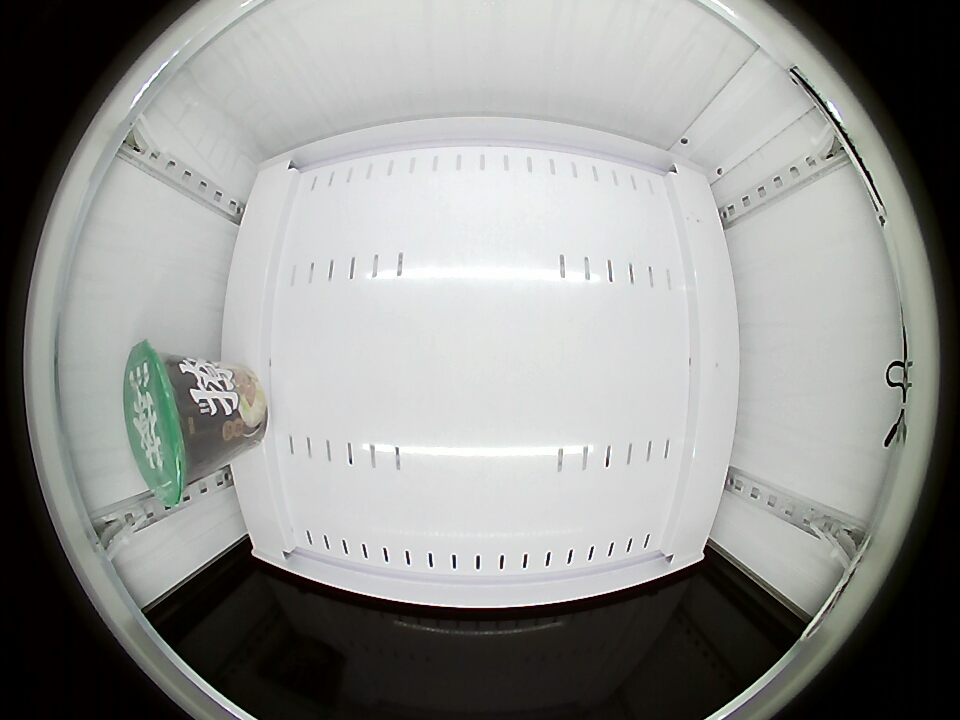liaomian: (124, 344, 207, 502)
